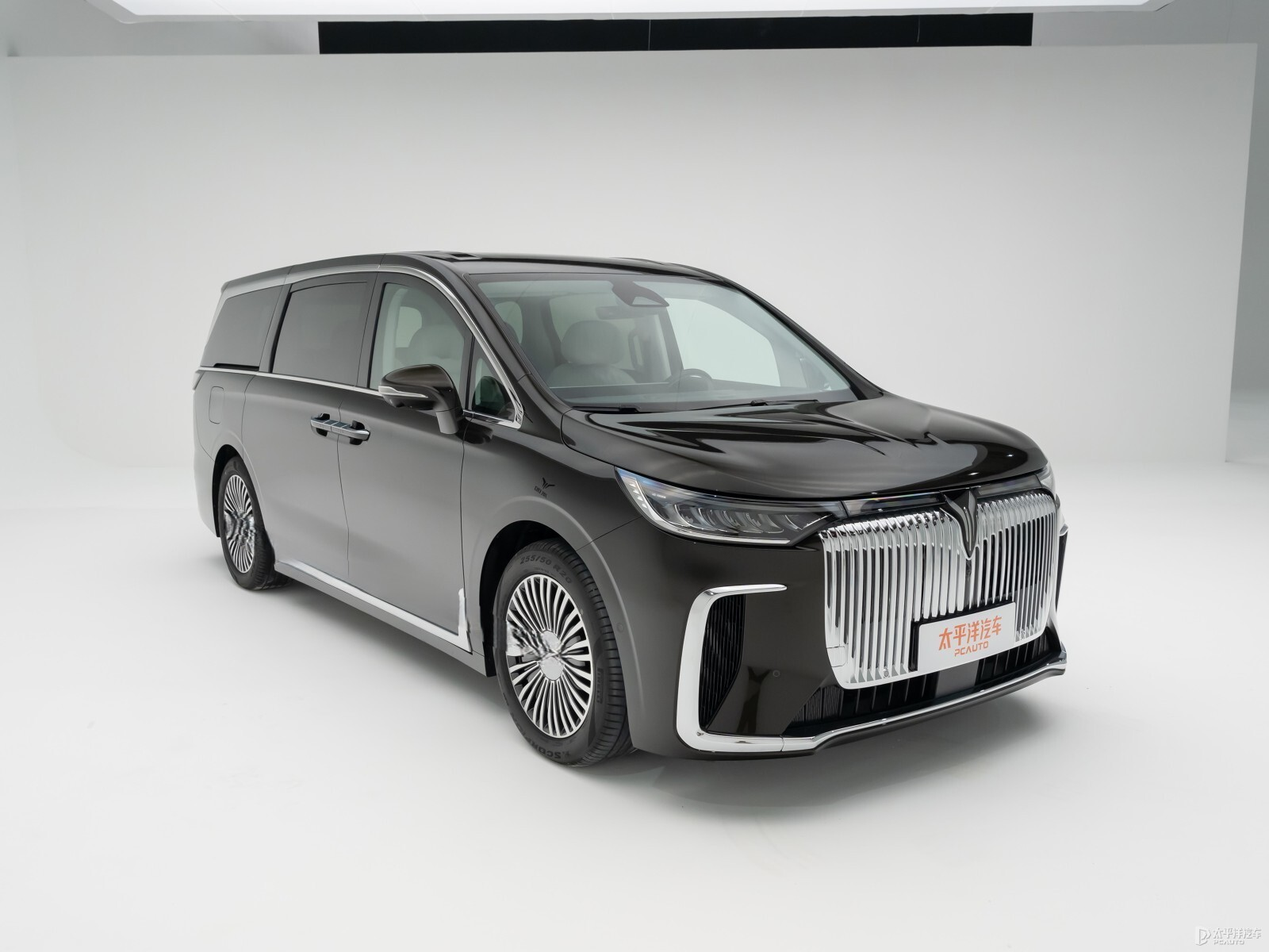VOYAH: (945, 491, 976, 551)
